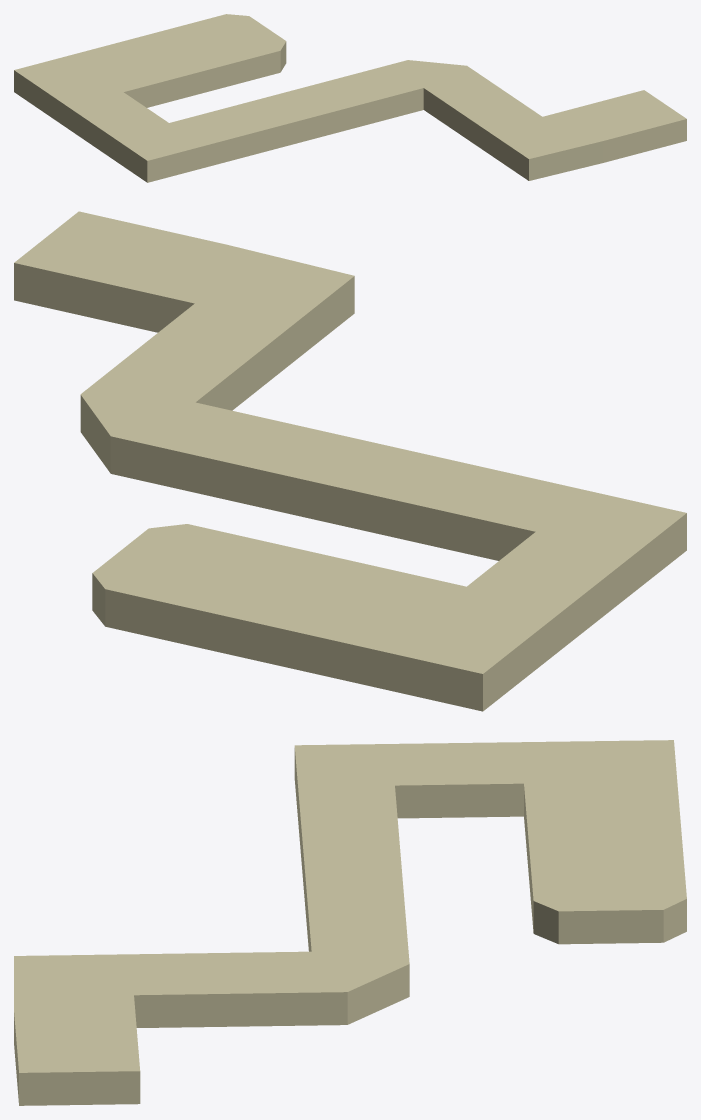
The model's file is SM_WhiteModel_17.FBX.
The picture shows the model from 3 angles, top to bottom: view 1: azimuth 30°, elevation 25°; view 2: azimuth 150°, elevation 25°; view 3: azimuth 270°, elevation 25°; orthographic projection. The views are drawn at different scales.
Visible parts, largest first — view 1: SM_WhiteModel_17; view 2: SM_WhiteModel_17; view 3: SM_WhiteModel_17.
Part boxes in pixels (left/top/right/bottom): SM_WhiteModel_17: left=14, top=14, right=686, bottom=182; SM_WhiteModel_17: left=14, top=211, right=686, bottom=711; SM_WhiteModel_17: left=14, top=740, right=686, bottom=1105.
Bounding box in the file's own units: 9748 × 8330 × 450.
